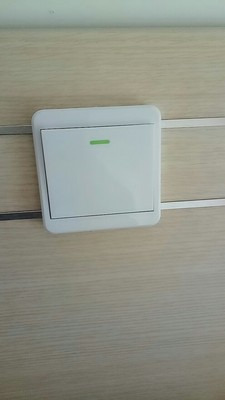switch: (37, 122, 161, 224)
